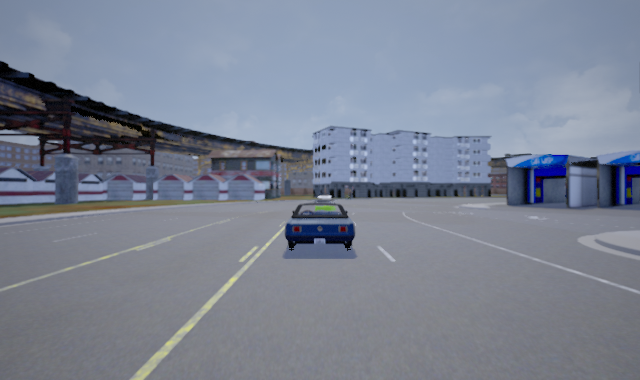vehicle: (283, 199, 356, 256), (311, 195, 337, 217)
